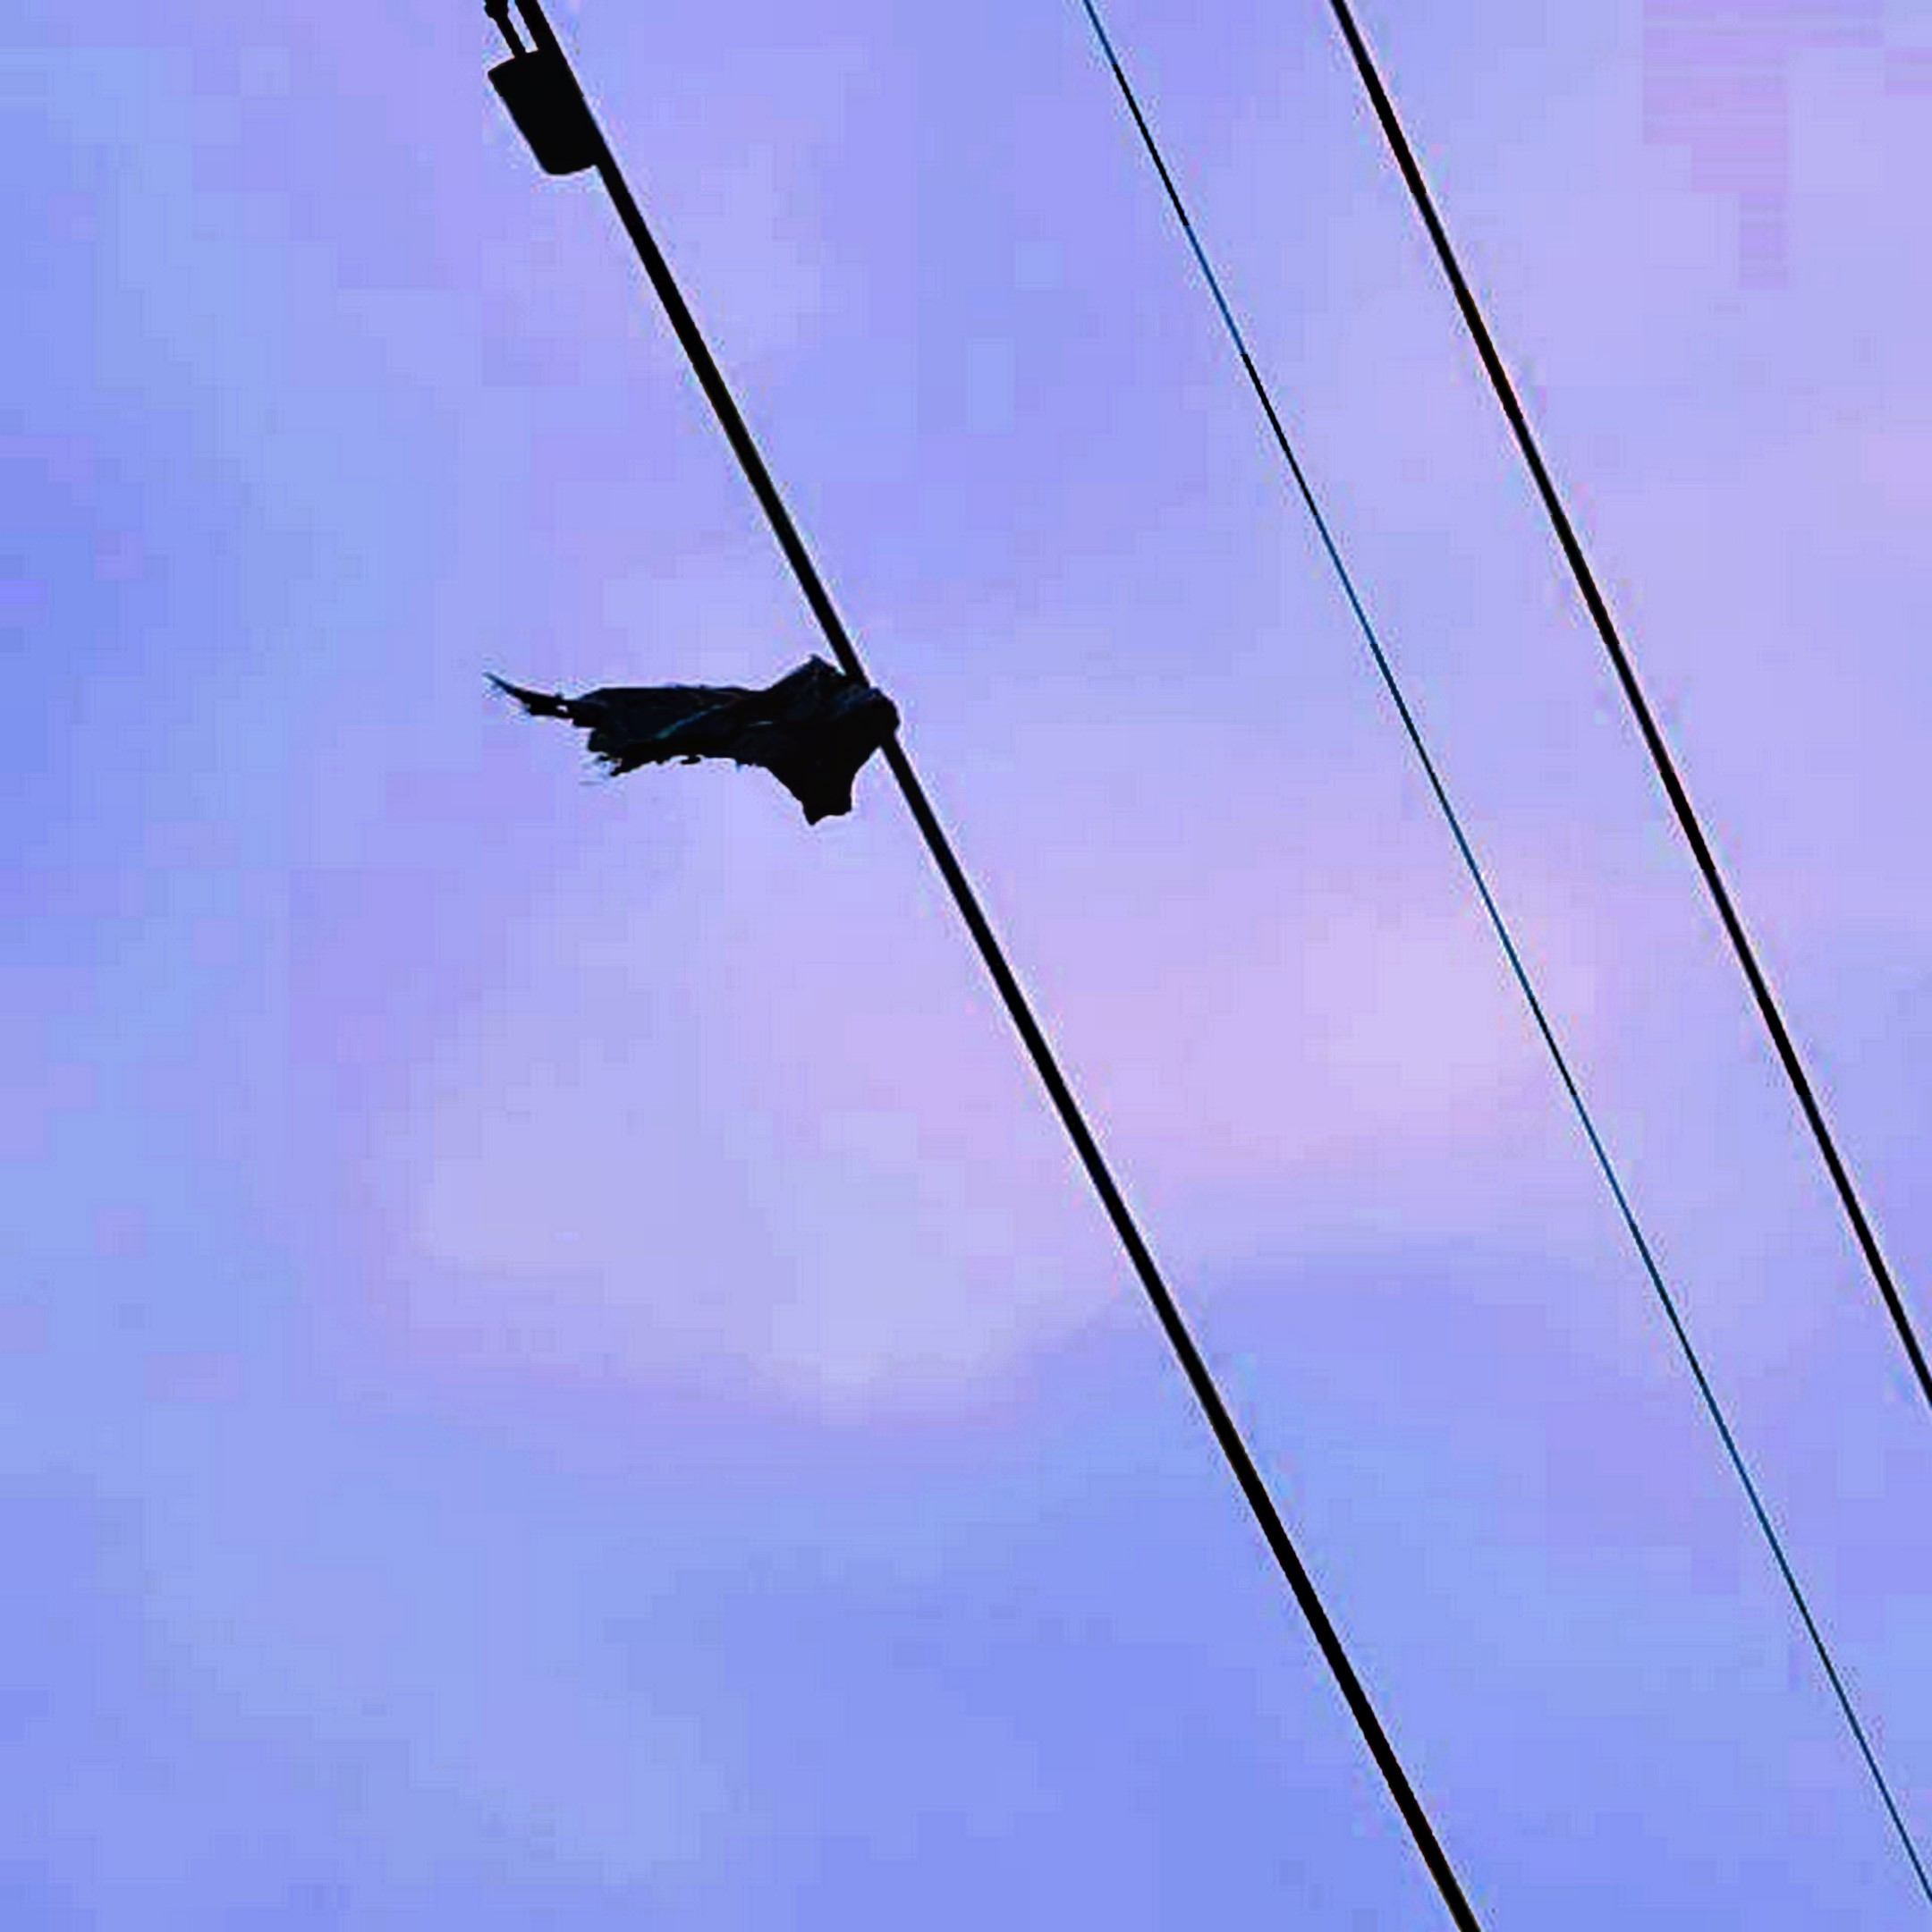wire foreign body: (467, 635, 970, 867)
